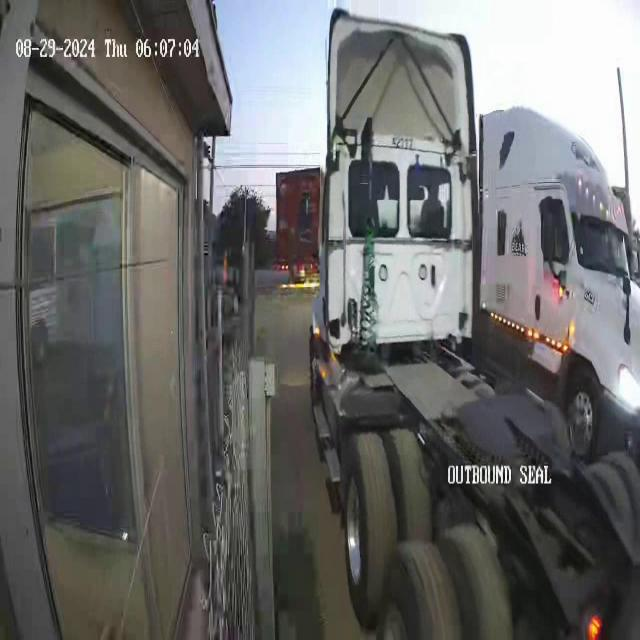TRUCK_IN: (483, 110, 638, 458)
TRUCK_OUT: (313, 23, 625, 640), (270, 156, 332, 291)
